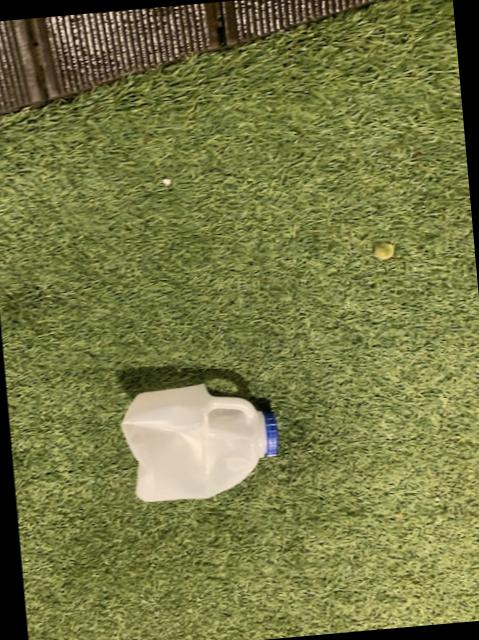plastic: (119, 381, 275, 499)
